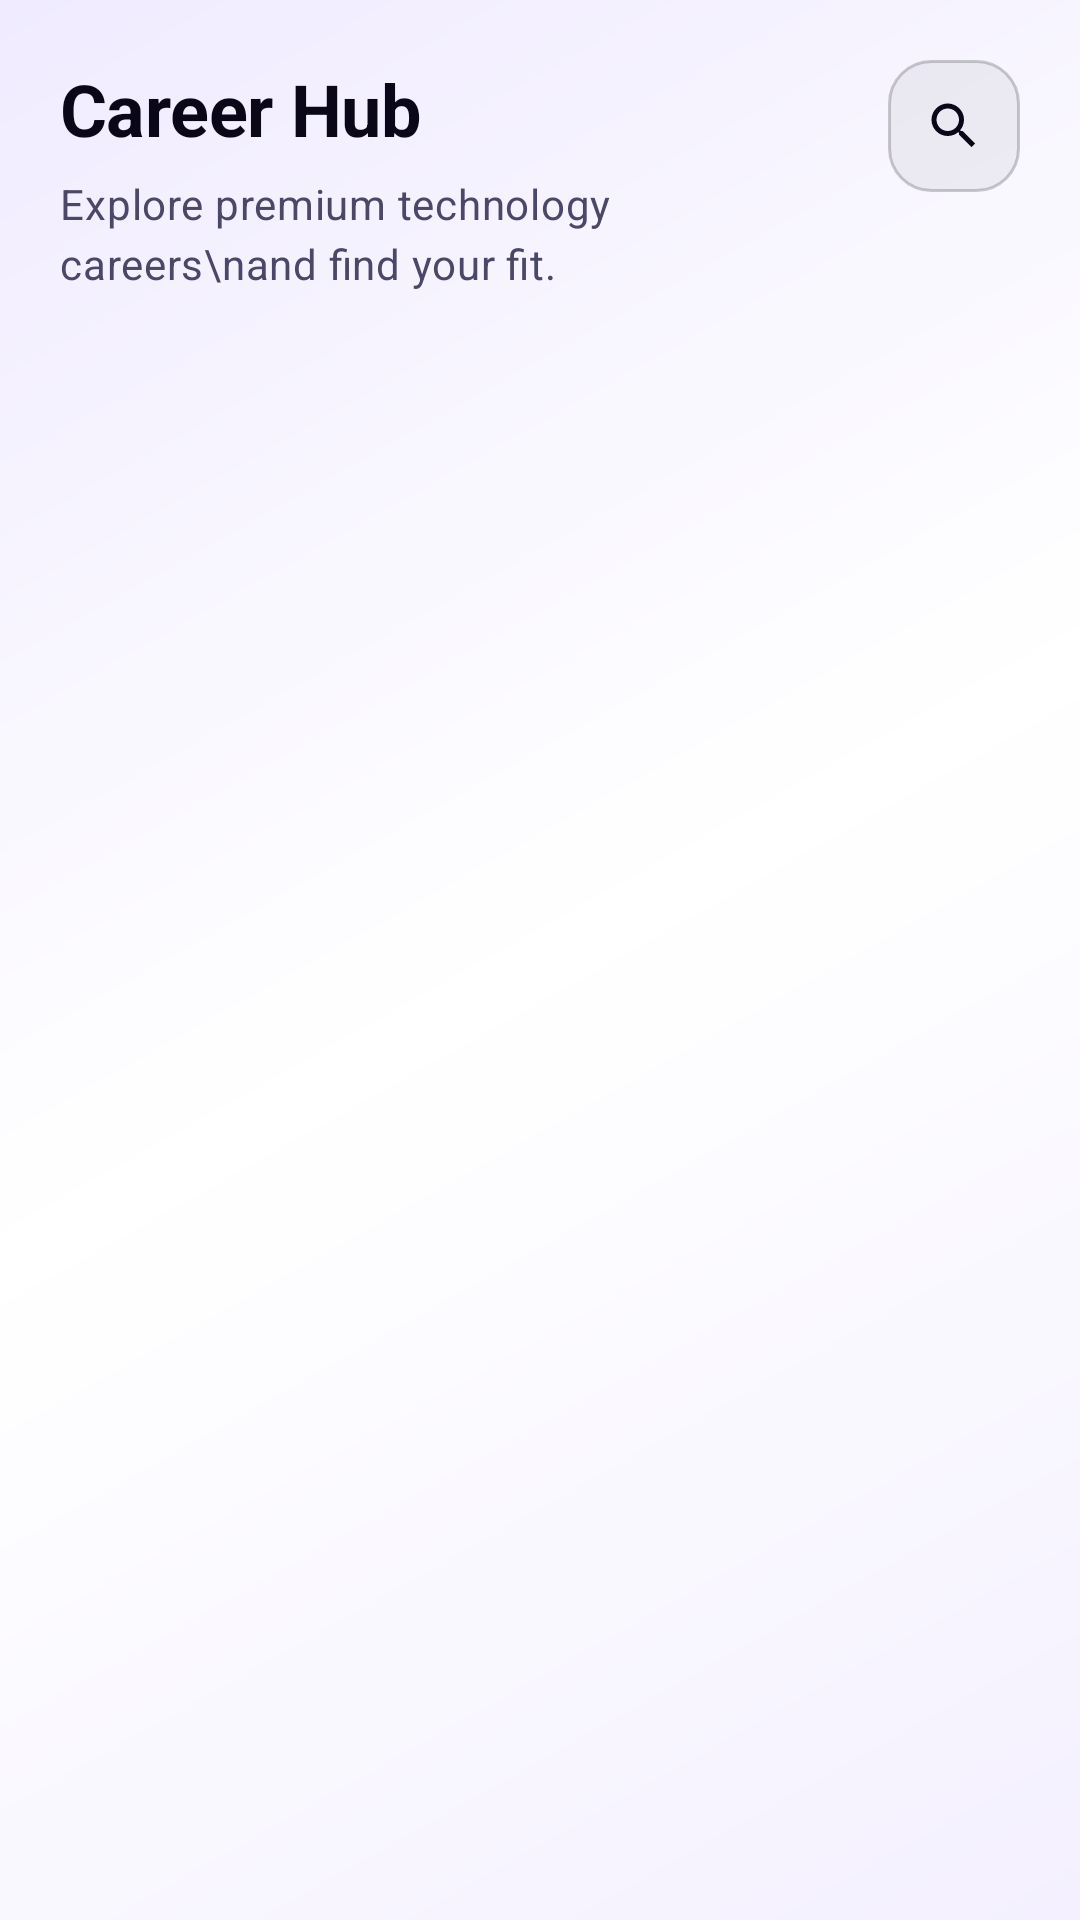

Named icons in this screenshot (1080 × 1920) and their centers, (x=x, y=y):
search: (x=953, y=125)
